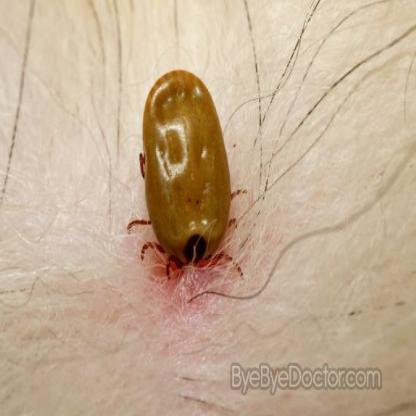Fire ant: (172, 98, 285, 282), (124, 251, 172, 338), (37, 152, 102, 208), (182, 311, 219, 372), (85, 259, 113, 329), (129, 176, 159, 235), (12, 244, 44, 281), (53, 210, 75, 257), (76, 120, 101, 150), (97, 360, 125, 383), (5, 124, 23, 159), (106, 147, 123, 176), (106, 189, 122, 218), (127, 112, 145, 137), (29, 303, 46, 327), (1, 189, 11, 222), (150, 145, 165, 167)
